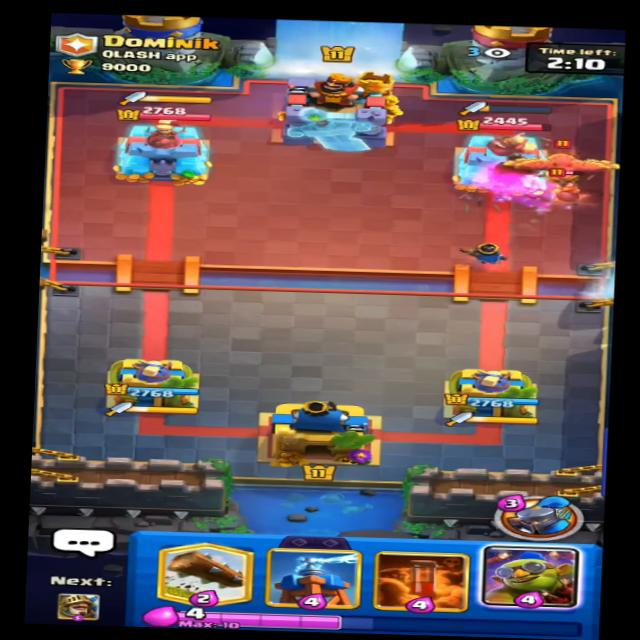bomber: (541, 167, 586, 201)
phoenix: (504, 137, 621, 184)
